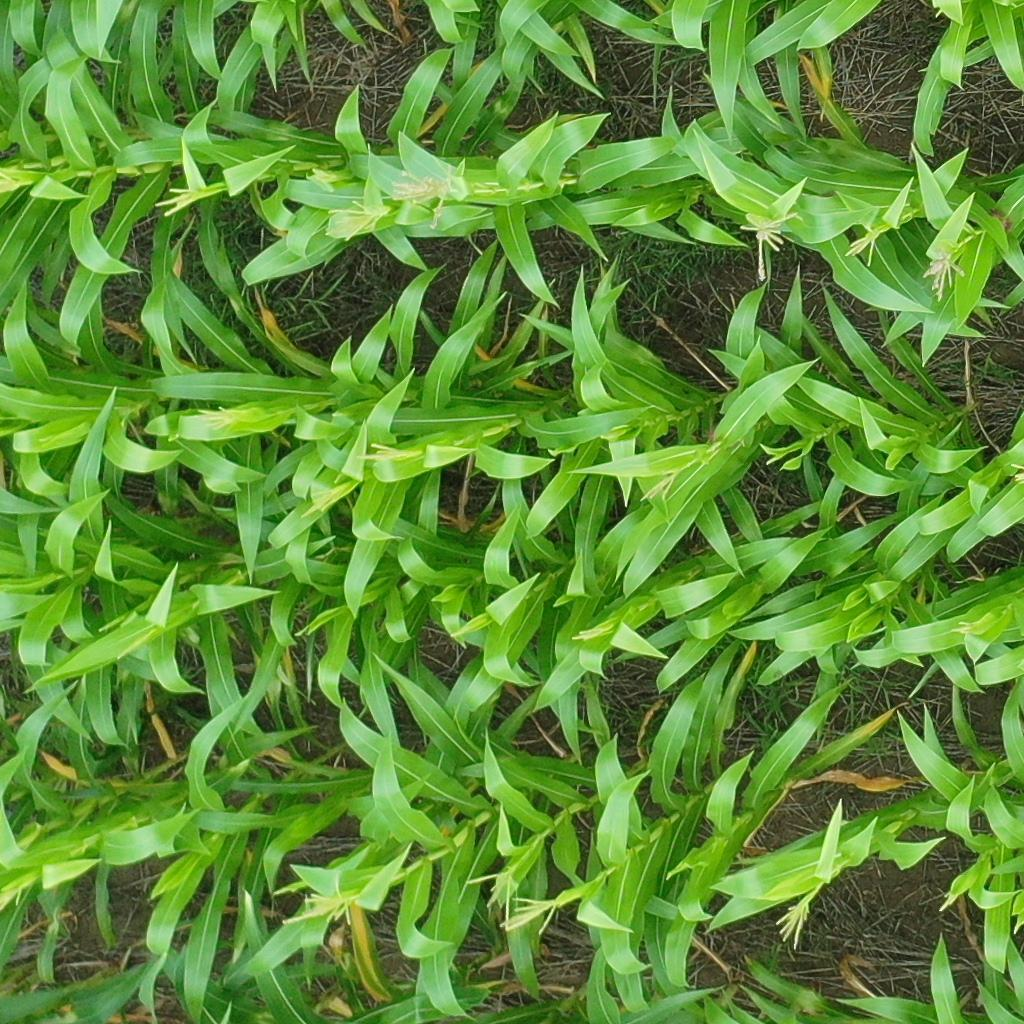Tassel: (739, 211, 799, 282), (464, 869, 519, 928), (324, 200, 391, 244), (280, 896, 361, 928), (922, 249, 966, 304), (498, 897, 558, 937), (391, 165, 445, 207), (775, 890, 812, 951), (844, 223, 881, 270), (637, 470, 679, 503), (357, 441, 410, 467), (154, 188, 199, 217), (301, 490, 336, 520), (203, 407, 237, 434), (1, 882, 25, 912), (571, 624, 613, 641), (1, 171, 27, 196), (310, 169, 337, 191), (939, 892, 959, 914), (950, 619, 974, 636), (1010, 463, 1024, 486)
